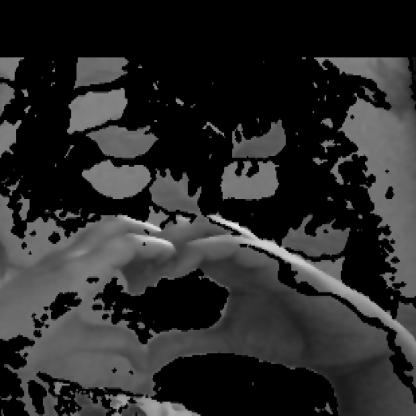heart: (28, 214, 340, 372)
